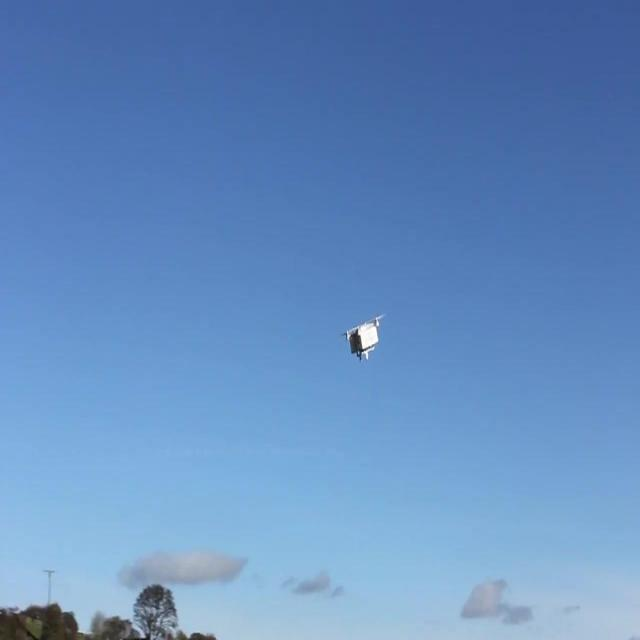UAV: (341, 314, 385, 362)
